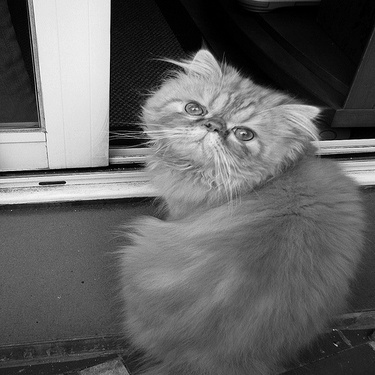cat: (117, 45, 364, 368)
